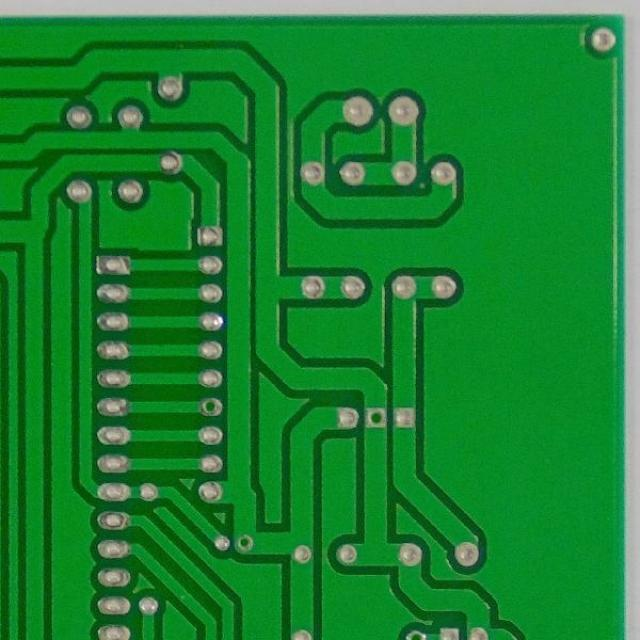Missing_Hole: (364, 406, 388, 430), (196, 398, 223, 417), (236, 532, 254, 552), (404, 631, 426, 640)
